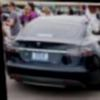License_Plate: (31, 52, 49, 60)
